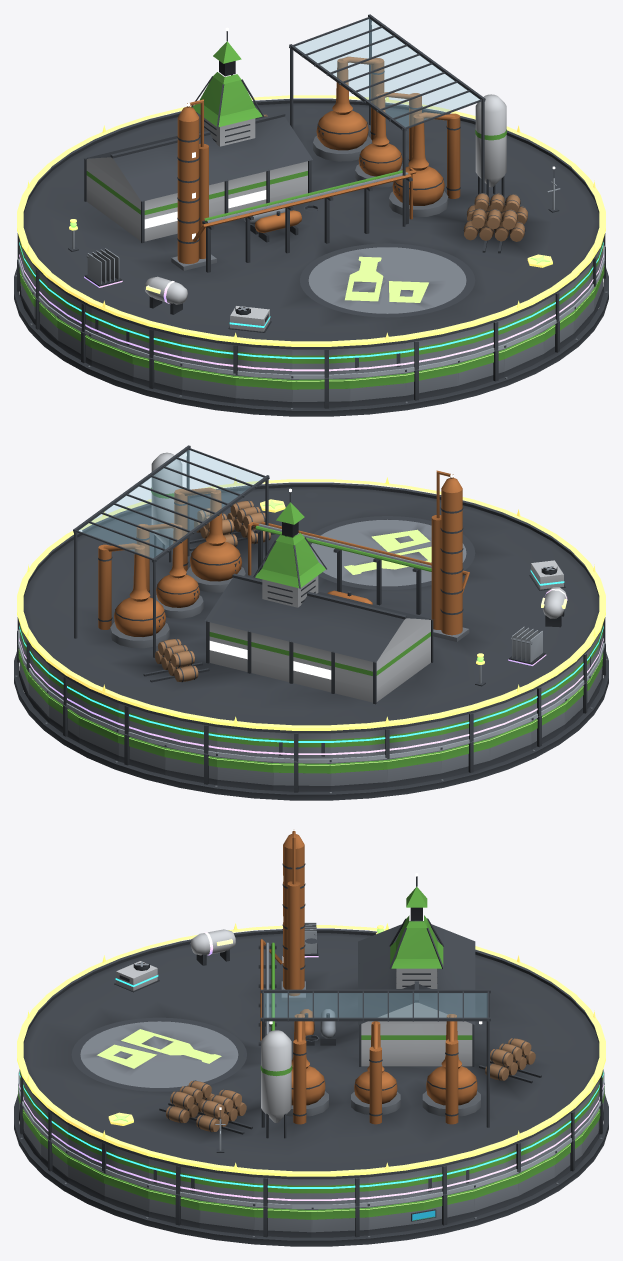
The model's file is distillery_xl.glb.
3 views of the same model, one above another, from view 1: azimuth 30°, elevation 25°; view 2: azimuth 150°, elevation 25°; view 3: azimuth 270°, elevation 25° (orthographic).
Parts seen in each view (by area): view 1: Roof, Base, L4, Wall_20, Wall_21, Wall_22, Wall_19, Wall_23, Wall_18, Wall_24, Upper_21, Upper_20 (+17 smaller); view 2: Roof, Base, L4, Wall_11, Wall_10, Wall_09, Wall_12, Wall_08, Wall_13, Wall_07, Upper_11, Upper_09 (+18 smaller); view 3: Roof, Base, Wall_00, Wall_31, Wall_30, Wall_01, L4, Wall_29, Wall_02, Upper_00, Upper_31, Wall_28 (+16 smaller).
Part boxes in pixels (x1=…): Roof: x1=23, y1=14, x2=599, y2=349; Base: x1=14, y1=268, x2=608, y2=416; L4: x1=84, y1=248, x2=187, y2=314; Wall_20: x1=235, y1=374, x2=292, y2=407; Wall_21: x1=292, y1=378, x2=349, y2=408; Wall_22: x1=349, y1=372, x2=405, y2=406; Wall_19: x1=181, y1=366, x2=235, y2=403; Wall_23: x1=405, y1=362, x2=458, y2=401; Wall_18: x1=132, y1=353, x2=181, y2=394; Wall_24: x1=457, y1=349, x2=504, y2=390; Upper_21: x1=292, y1=348, x2=349, y2=377; Upper_20: x1=235, y1=345, x2=292, y2=374; Roof: x1=23, y1=445, x2=599, y2=733; Base: x1=14, y1=652, x2=608, y2=800; L4: x1=508, y1=587, x2=567, y2=665; Wall_11: x1=330, y1=758, x2=387, y2=791; Wall_10: x1=273, y1=762, x2=330, y2=792; Wall_09: x1=217, y1=756, x2=273, y2=790; Wall_12: x1=387, y1=750, x2=441, y2=787; Wall_08: x1=164, y1=745, x2=217, y2=785; Wall_13: x1=441, y1=737, x2=490, y2=778; Wall_07: x1=118, y1=733, x2=165, y2=774; Upper_11: x1=330, y1=729, x2=387, y2=758; Upper_09: x1=217, y1=727, x2=273, y2=757; Roof: x1=23, y1=829, x2=599, y2=1179; Base: x1=14, y1=1094, x2=608, y2=1246; Wall_00: x1=311, y1=1206, x2=368, y2=1237; Wall_31: x1=254, y1=1206, x2=311, y2=1237; Wall_30: x1=199, y1=1199, x2=254, y2=1235; Wall_01: x1=368, y1=1199, x2=423, y2=1235; L4: x1=190, y1=922, x2=318, y2=965; Wall_29: x1=148, y1=1188, x2=199, y2=1228; Wall_02: x1=423, y1=1188, x2=474, y2=1228; Upper_00: x1=311, y1=1177, x2=368, y2=1206; Upper_31: x1=254, y1=1177, x2=311, y2=1206; Wall_28: x1=104, y1=1172, x2=148, y2=1216.
Size of the model in its own units: 23.15 by 9.98 by 23.15.
